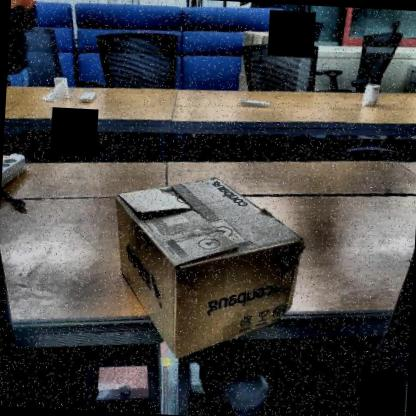box: (104, 169, 306, 372)
